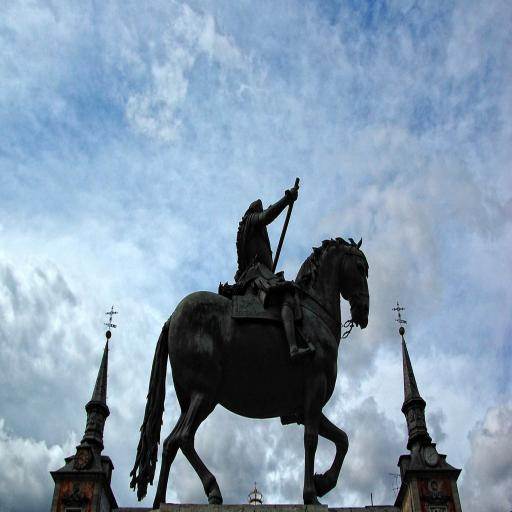Horse: (128, 236, 372, 512)
